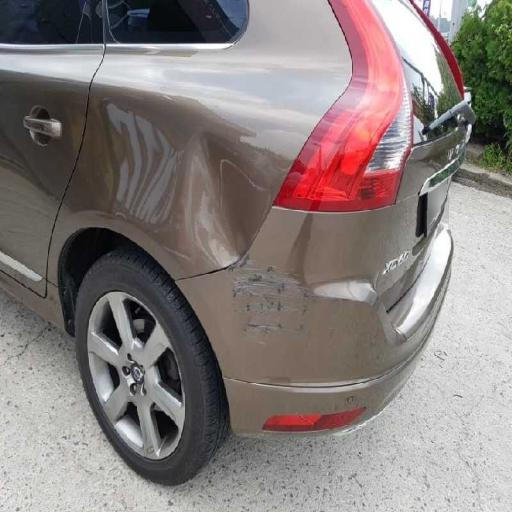dent: (188, 109, 276, 270)
scratch: (230, 241, 324, 359)
